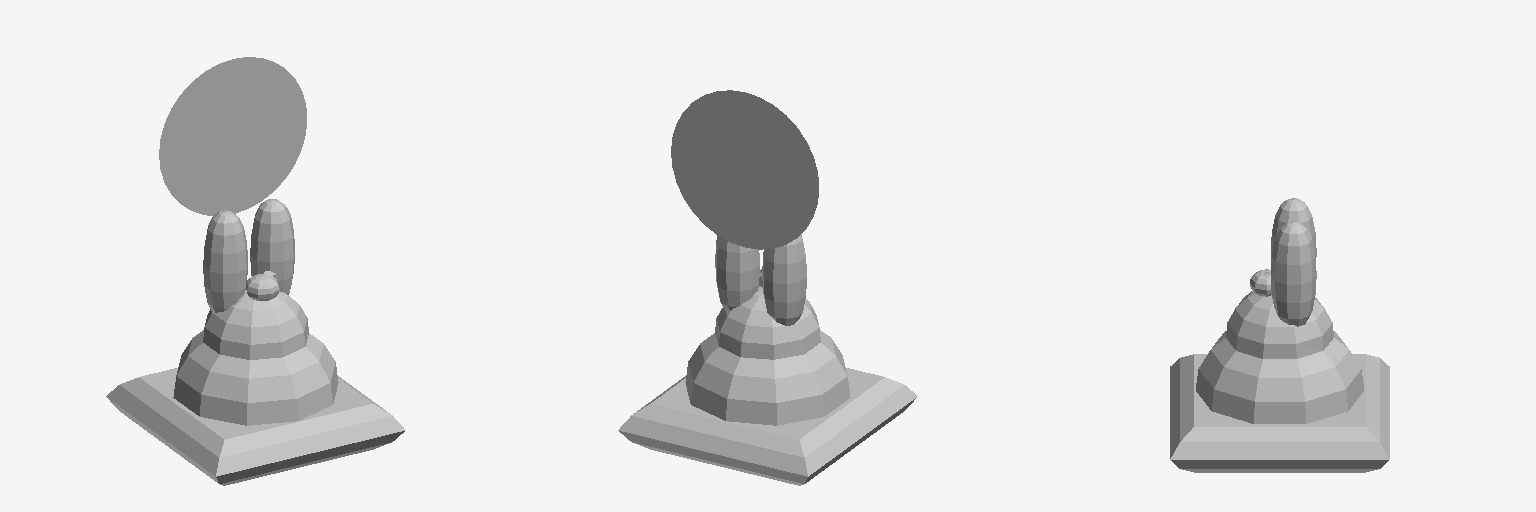
The model's file is mikan.obj.
The picture shows the model from 3 angles: view 1: azimuth 30°, elevation 25°; view 2: azimuth 150°, elevation 25°; view 3: azimuth 270°, elevation 25°; orthographic projection.
Visible parts, largest first — view 1: Circle, Circle.001; view 2: Circle, Circle.001; view 3: Circle.
Boxes of the visible parts, <box> form: Circle: <box>106,199,405,485</box>; Circle.001: <box>159,57,306,215</box>; Circle: <box>618,235,917,485</box>; Circle.001: <box>671,90,818,249</box>; Circle: <box>1170,198,1389,472</box>.
Size of the model in its own units: 2.56 by 4.64 by 2.56.